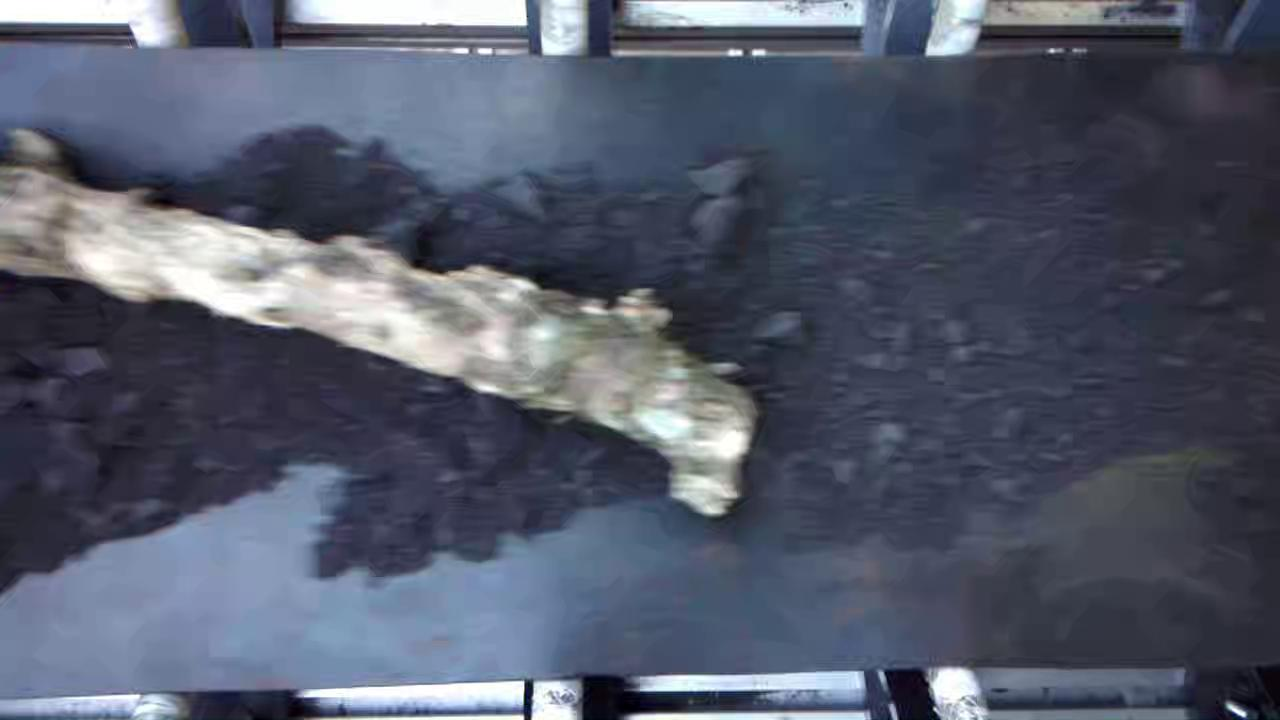conveyor: (3, 63, 1280, 661)
